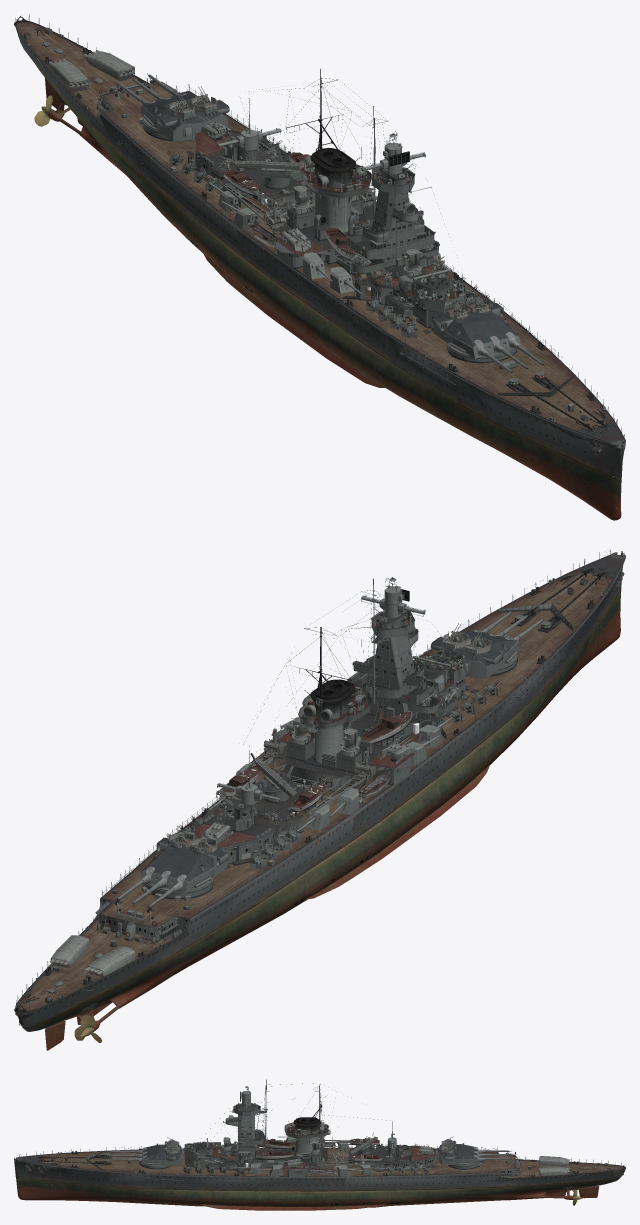
Rendered from the_third_reich_navy_large_cruiser_adm._scheer-maximum-compressed.glb.
3 views of the same model, one above another, from view 1: azimuth 30°, elevation 25°; view 2: azimuth 150°, elevation 25°; view 3: azimuth 270°, elevation 25° (orthographic). The views are drawn at different scales.
Parts seen in each view (by area): view 1: HP_MidFront_5C7A9F79_CC67_45E1_B566_39E1E6B095AB_0, HP_MidBack_C3AD080C_5C60_45F9_AD4A_90FBA5204E93_0, HP_Bow_43007E6D_19C6_425F_AA10_6A288306E4FF_0, HP_GGM_1_935600C3_D132_4CB5_A6E0_CF72057DED6C_0, HP_Stern_5719B012_1291_4274_9433_CAECC9E3F0BA_0, HP_GGM_002_935600C3_D132_4CB5_A6E0_CF72057DED6C_0, HP_MidFront_514B38A5_8622_4C2D_9854_9F2E67DA4F7C_0, HP_MidBack_E6DF897F_5DD4_42D2_B638_D58D9B00F9B3_0, HP_GC_1_82D015DC_379F_45CF_9031_AE180F3A889A_0, HP_GGT_1_3FA459BA_0AFB_4FDA_B448_7ABAFDB252C4_0, HP_GGT_2_F5BCBF3F_2098_476C_BFD8_AEA105411949_0, MP_GM904_Crane_INDEX_1_DE456AAE_FDFC_44FB_8CFF_BCC948A9C7A9_; view 2: HP_MidFront_5C7A9F79_CC67_45E1_B566_39E1E6B095AB_0, HP_MidBack_C3AD080C_5C60_45F9_AD4A_90FBA5204E93_0, HP_Bow_43007E6D_19C6_425F_AA10_6A288306E4FF_0, HP_Stern_5719B012_1291_4274_9433_CAECC9E3F0BA_0, HP_GGM_002_935600C3_D132_4CB5_A6E0_CF72057DED6C_0, HP_GGM_1_935600C3_D132_4CB5_A6E0_CF72057DED6C_0, HP_MidFront_514B38A5_8622_4C2D_9854_9F2E67DA4F7C_0, HP_MidBack_E6DF897F_5DD4_42D2_B638_D58D9B00F9B3_0, MP_GM501_Lauch_11m_INDEX_1_646A3367_99D3_4353_8F27_94CEA509E, HP_GGT_2_F5BCBF3F_2098_476C_BFD8_AEA105411949_0, HP_GC_1_82D015DC_379F_45CF_9031_AE180F3A889A_0, HP_GGT_1_3FA459BA_0AFB_4FDA_B448_7ABAFDB252C4_0 (+1 smaller); view 3: HP_MidFront_5C7A9F79_CC67_45E1_B566_39E1E6B095AB_0, HP_MidBack_C3AD080C_5C60_45F9_AD4A_90FBA5204E93_0, HP_Bow_43007E6D_19C6_425F_AA10_6A288306E4FF_0, HP_Stern_5719B012_1291_4274_9433_CAECC9E3F0BA_0, HP_GGM_1_935600C3_D132_4CB5_A6E0_CF72057DED6C_0, HP_GGM_002_935600C3_D132_4CB5_A6E0_CF72057DED6C_0, HP_MidFront_514B38A5_8622_4C2D_9854_9F2E67DA4F7C_0, MP_GM501_Lauch_11m_E763EEA7_FF9E_466F_AFE7_B9F63B416C17_0, HP_MidBack_E6DF897F_5DD4_42D2_B638_D58D9B00F9B3_0, HP_GGT_1_3FA459BA_0AFB_4FDA_B448_7ABAFDB252C4_0, MP_GM904_Crane_4817D1E5_164E_4509_AF24_6E66DF0B811B_0, HP_GGT_2_F5BCBF3F_2098_476C_BFD8_AEA105411949_0 (+4 smaller).
Boxes of the visible parts, x1,y1,x2,y2 form: HP_MidFront_5C7A9F79_CC67_45E1_B566_39E1E6B095AB_0: (236,69,549,435); HP_MidBack_C3AD080C_5C60_45F9_AD4A_90FBA5204E93_0: (60,71,315,292); HP_Bow_43007E6D_19C6_425F_AA10_6A288306E4FF_0: (453,350,625,520); HP_GGM_1_935600C3_D132_4CB5_A6E0_CF72057DED6C_0: (431,303,544,373); HP_Stern_5719B012_1291_4274_9433_CAECC9E3F0BA_0: (14,16,103,133); HP_GGM_002_935600C3_D132_4CB5_A6E0_CF72057DED6C_0: (117,74,229,141); HP_MidFront_514B38A5_8622_4C2D_9854_9F2E67DA4F7C_0: (256,78,558,380); HP_MidBack_E6DF897F_5DD4_42D2_B638_D58D9B00F9B3_0: (78,75,290,232); HP_GC_1_82D015DC_379F_45CF_9031_AE180F3A889A_0: (234,149,299,178); HP_GGT_1_3FA459BA_0AFB_4FDA_B448_7ABAFDB252C4_0: (84,50,134,79); HP_GGT_2_F5BCBF3F_2098_476C_BFD8_AEA105411949_0: (49,59,88,89); MP_GM904_Crane_INDEX_1_DE456AAE_FDFC_44FB_8CFF_BCC948A9C7A9_: (217,179,285,236); HP_MidFront_5C7A9F79_CC67_45E1_B566_39E1E6B095AB_0: (250,578,550,877); HP_MidBack_C3AD080C_5C60_45F9_AD4A_90FBA5204E93_0: (78,745,355,1009); HP_Bow_43007E6D_19C6_425F_AA10_6A288306E4FF_0: (459,551,625,713); HP_Stern_5719B012_1291_4274_9433_CAECC9E3F0BA_0: (14,952,119,1050); HP_GGM_002_935600C3_D132_4CB5_A6E0_CF72057DED6C_0: (116,837,229,908); HP_GGM_1_935600C3_D132_4CB5_A6E0_CF72057DED6C_0: (430,611,543,678); HP_MidFront_514B38A5_8622_4C2D_9854_9F2E67DA4F7C_0: (243,590,558,790); HP_MidBack_E6DF897F_5DD4_42D2_B638_D58D9B00F9B3_0: (78,758,361,952); MP_GM501_Lauch_11m_INDEX_1_646A3367_99D3_4353_8F27_94CEA509E: (360,711,411,743); HP_GGT_2_F5BCBF3F_2098_476C_BFD8_AEA105411949_0: (84,946,134,975); HP_GC_1_82D015DC_379F_45CF_9031_AE180F3A889A_0: (254,759,297,797); HP_GGT_1_3FA459BA_0AFB_4FDA_B448_7ABAFDB252C4_0: (49,935,89,966); HP_MidFront_5C7A9F79_CC67_45E1_B566_39E1E6B095AB_0: (127,1079,344,1210); HP_MidBack_C3AD080C_5C60_45F9_AD4A_90FBA5204E93_0: (327,1121,553,1209); HP_Bow_43007E6D_19C6_425F_AA10_6A288306E4FF_0: (14,1149,136,1203); HP_Stern_5719B012_1291_4274_9433_CAECC9E3F0BA_0: (544,1161,625,1199); HP_GGM_1_935600C3_D132_4CB5_A6E0_CF72057DED6C_0: (111,1141,183,1166); HP_GGM_002_935600C3_D132_4CB5_A6E0_CF72057DED6C_0: (437,1141,509,1166); HP_MidFront_514B38A5_8622_4C2D_9854_9F2E67DA4F7C_0: (124,1083,390,1176); MP_GM501_Lauch_11m_E763EEA7_FF9E_466F_AFE7_B9F63B416C17_0: (256,1150,293,1160); HP_MidBack_E6DF897F_5DD4_42D2_B638_D58D9B00F9B3_0: (337,1131,529,1177); HP_GGT_1_3FA459BA_0AFB_4FDA_B448_7ABAFDB252C4_0: (538,1166,570,1175); MP_GM904_Crane_4817D1E5_164E_4509_AF24_6E66DF0B811B_0: (316,1153,378,1169); HP_GGT_2_F5BCBF3F_2098_476C_BFD8_AEA105411949_0: (538,1156,570,1165).
Size of the model in its own units: 0.0159 by 0.0269 by 0.1243.
Materials: 57 (54 with a texture image).
